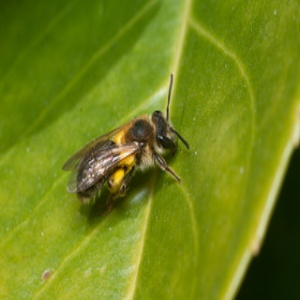bee: (63, 73, 191, 214)
